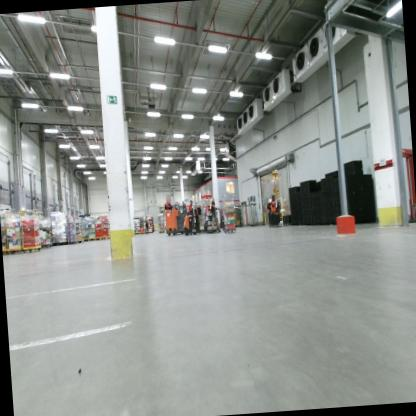pallet_truck: (181, 196, 221, 236), (163, 202, 191, 238), (265, 198, 281, 227)
